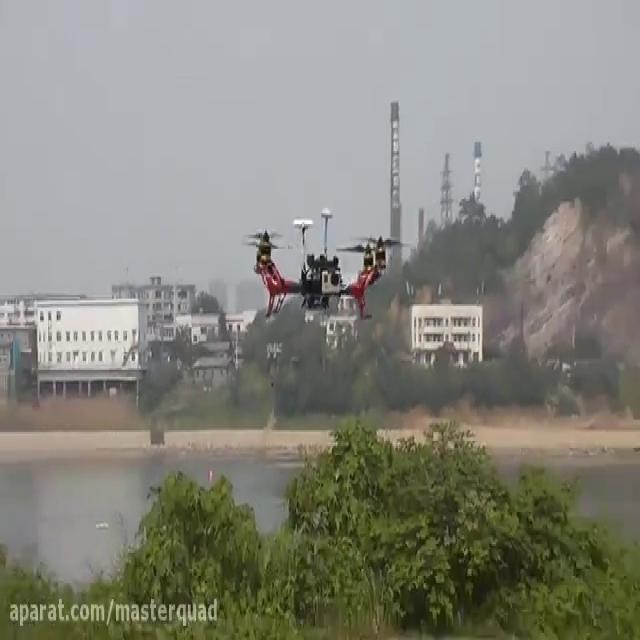drone: (240, 203, 410, 320)
